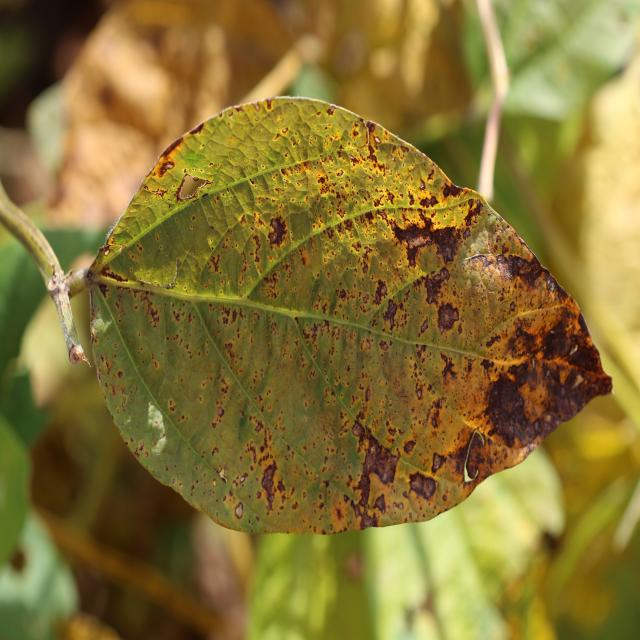Bacterial_Blight: (346, 406, 411, 488), (486, 373, 531, 440), (560, 329, 611, 388), (391, 217, 446, 267), (158, 128, 196, 162), (363, 121, 388, 169), (175, 173, 211, 202), (260, 460, 278, 509), (139, 292, 162, 327), (436, 302, 459, 333), (267, 216, 288, 247), (218, 304, 242, 329), (382, 298, 399, 328), (440, 356, 458, 384), (440, 181, 464, 202), (211, 401, 227, 429), (351, 419, 365, 441), (208, 252, 221, 273), (97, 283, 110, 299), (419, 316, 429, 336), (224, 342, 234, 358), (366, 120, 375, 133), (364, 387, 371, 402)
Soybean: (20, 97, 612, 534)
